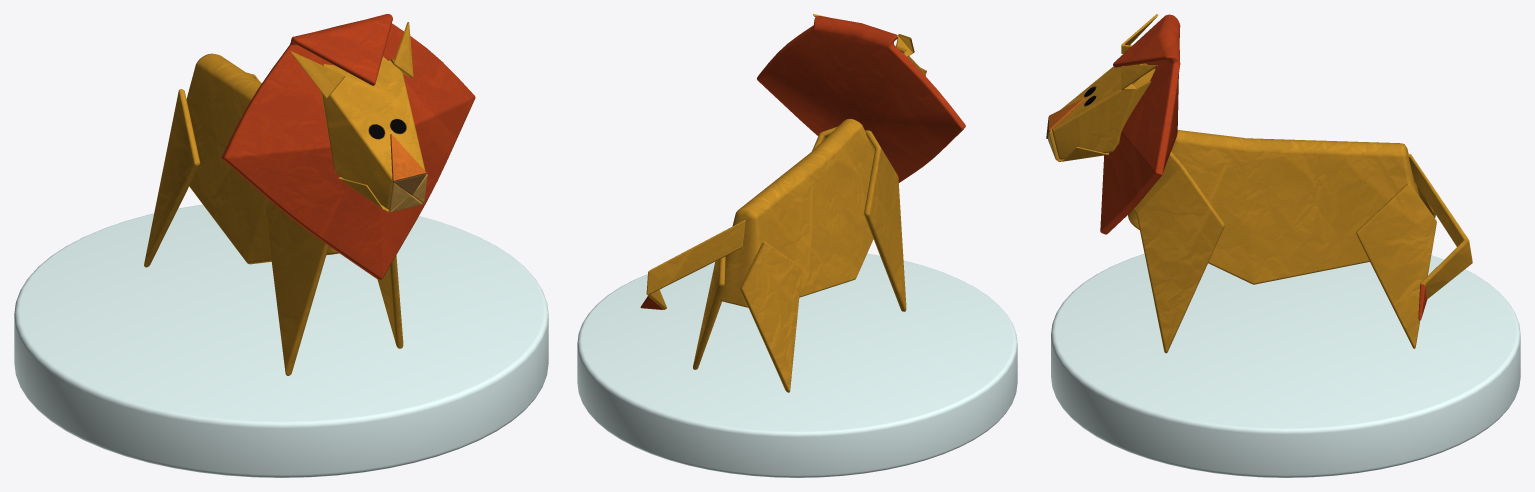
The model's file is lion_wL_2.glb.
3 views of the same model, side by side, from view 1: azimuth 30°, elevation 25°; view 2: azimuth 150°, elevation 25°; view 3: azimuth 270°, elevation 25° (orthographic). The views are drawn at different scales.
Visible parts, largest first — view 1: Cylinder, node_id47; view 2: Cylinder, node_id47; view 3: Cylinder, node_id47.
Part boxes in pixels (x1,y1,x2,y2): Cylinder: (14, 204, 548, 477); node_id47: (144, 14, 475, 375); Cylinder: (577, 253, 1017, 477); node_id47: (640, 14, 965, 392); Cylinder: (1051, 253, 1520, 477); node_id47: (1046, 14, 1472, 353).
Bounding box in the file's own units: 3.24 × 2.62 × 3.27.
Materials: 2 (1 with a texture image).
